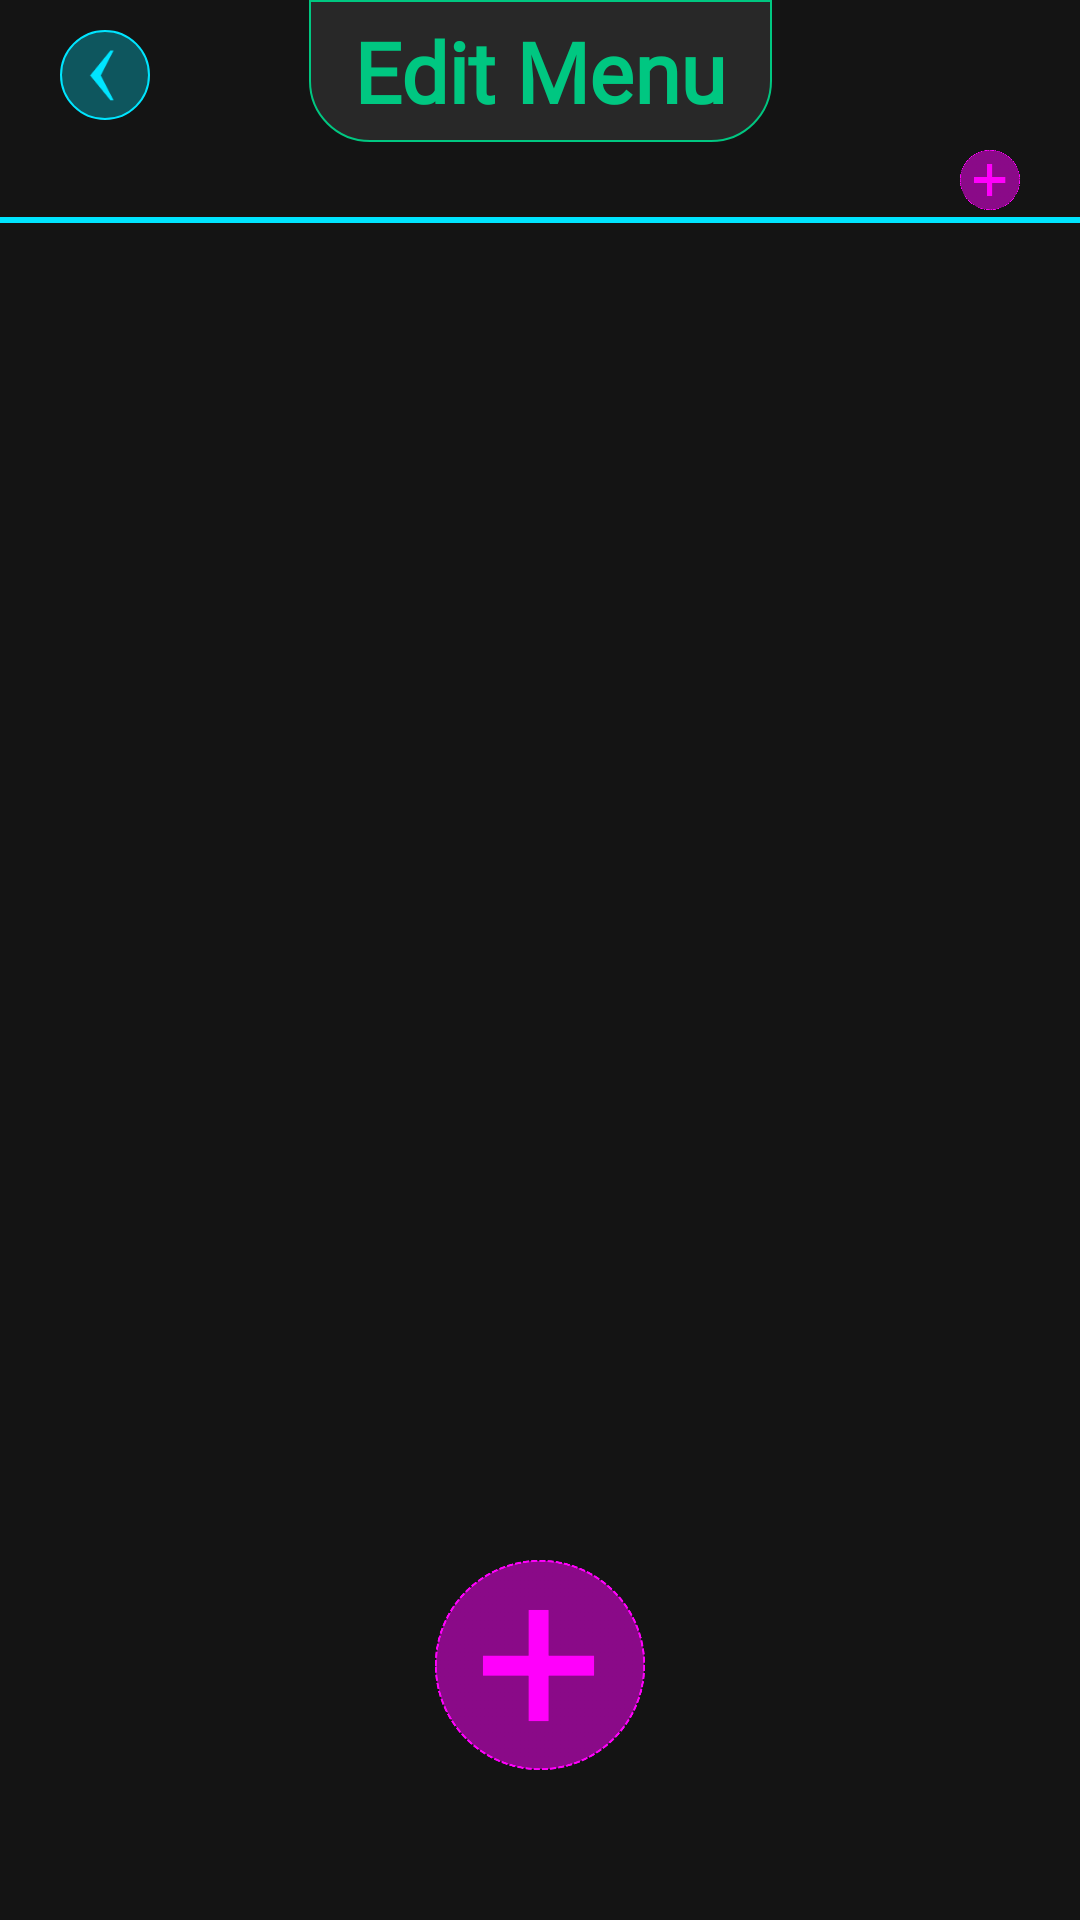

Screen size 1080 × 1920. Icon name, then its box in pixels as BBox(x1, y1, x2, y2):
back: BBox(90, 50, 114, 101)
